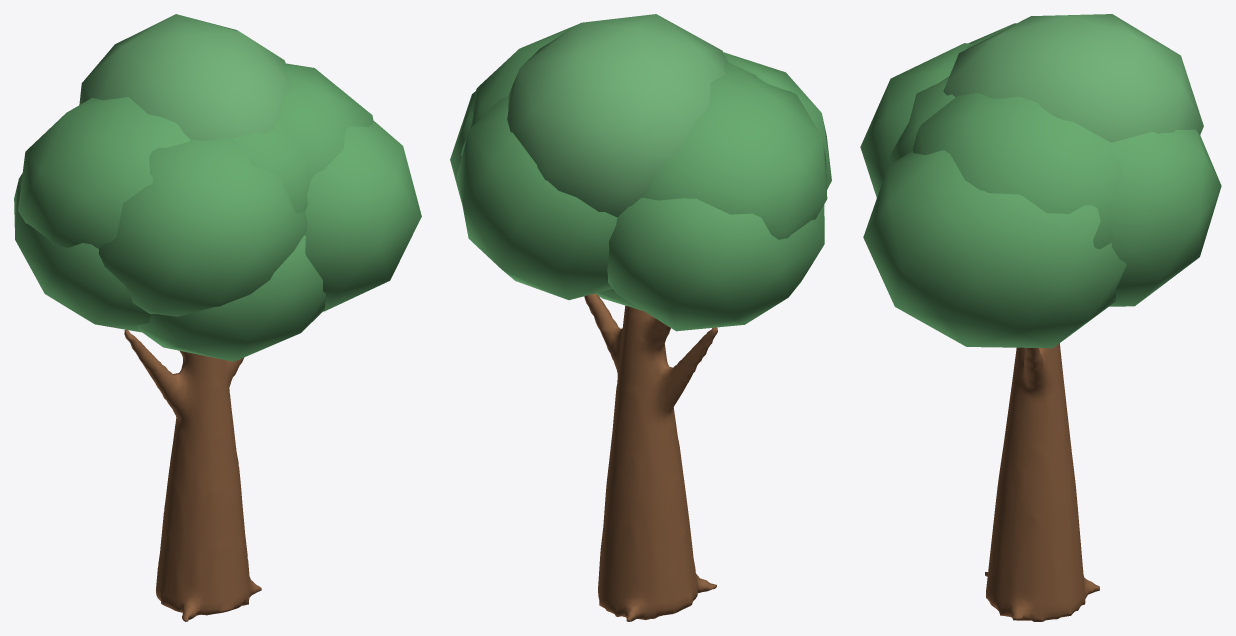
File: NaturalTree_06_Dense.fbx
3 views of the same model, side by side, from view 1: azimuth 30°, elevation 25°; view 2: azimuth 150°, elevation 25°; view 3: azimuth 270°, elevation 25° (orthographic). The views are drawn at different scales.
Parts seen in each view (by area): view 1: Foliage_03.005, Trunk.005, Foliage_08, Foliage_01.005, Foliage_06.005, Foliage_07.005, Foliage_05.005, Foliage_02.005, Foliage_00.005; view 2: Foliage_08, Trunk.005, Foliage_05.005, Foliage_01.005, Foliage_04.005, Foliage_02.005, Foliage_03.005, Foliage_06.005; view 3: Foliage_06.005, Foliage_08, Trunk.005, Foliage_02.005, Foliage_04.005, Foliage_03.005, Foliage_00.005.
Boxes of the visible parts, bbox=[...] form: Foliage_03.005: bbox=[98, 138, 307, 316]; Trunk.005: bbox=[124, 329, 261, 621]; Foliage_08: bbox=[79, 14, 290, 140]; Foliage_01.005: bbox=[18, 97, 190, 248]; Foliage_06.005: bbox=[304, 120, 421, 311]; Foliage_07.005: bbox=[137, 235, 326, 361]; Foliage_05.005: bbox=[14, 173, 150, 332]; Foliage_02.005: bbox=[278, 63, 373, 178]; Foliage_00.005: bbox=[231, 121, 310, 213]; Foliage_08: bbox=[507, 14, 728, 217]; Trunk.005: bbox=[584, 293, 717, 621]; Foliage_05.005: bbox=[607, 197, 824, 331]; Foliage_01.005: bbox=[642, 62, 827, 239]; Foliage_04.005: bbox=[457, 95, 617, 300]; Foliage_02.005: bbox=[461, 24, 578, 156]; Foliage_03.005: bbox=[723, 52, 831, 189]; Foliage_06.005: bbox=[450, 91, 475, 202]; Foliage_06.005: bbox=[863, 150, 1126, 348]; Foliage_08: bbox=[943, 14, 1203, 142]; Trunk.005: bbox=[985, 343, 1099, 621]; Foliage_02.005: bbox=[912, 92, 1122, 248]; Foliage_04.005: bbox=[1109, 129, 1221, 306]; Foliage_03.005: bbox=[860, 43, 971, 197]; Foliage_00.005: bbox=[888, 76, 955, 163].
Bounding box in the file's own units: 2.04 × 3.19 × 1.79.
